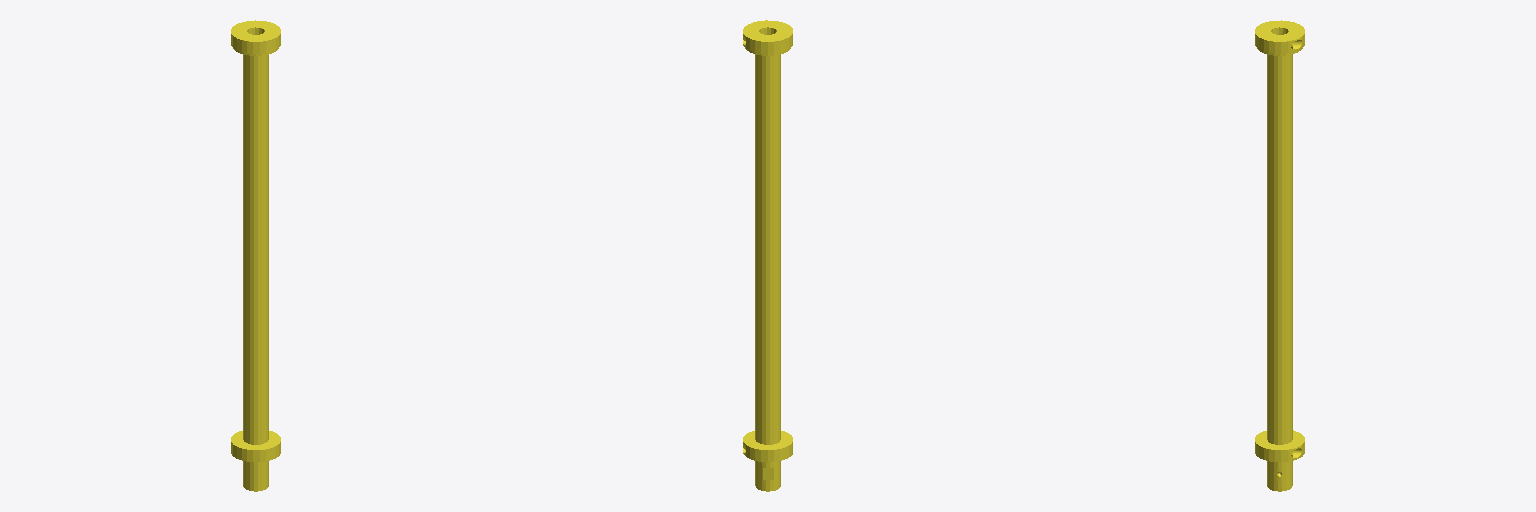
The robot description file, URDF, robot "IRB920T_6kg_450_180_STD":
<?xml version="1.0" ?>
<robot name="IRB920T_6kg_450_180_STD">

<link name="base_link">
  <inertial>
    <origin xyz="-0.025007128631782737 4.8316998944871165e-06 0.0942820943103721" rpy="0 0 0"/>
    <mass value="41.12593814105158"/>
    <inertia ixx="0.182723" iyy="0.263419" izz="0.209732" ixy="5.3e-05" iyz="2e-06" ixz="0.005906"/>
  </inertial>
  <visual>
    <origin xyz="0 0 0" rpy="0 0 0"/>
    <geometry>
      <mesh filename="meshes/base_link.stl" scale="0.001 0.001 0.001"/>
    </geometry>
  </visual>
  <collision>
    <origin xyz="0 0 0" rpy="0 0 0"/>
    <geometry>
      <mesh filename="meshes/base_link.stl" scale="0.001 0.001 0.001"/>
    </geometry>
  </collision>
</link>

<link name="IRB920T_6kg_450_180_STD_OmniCore_rev00_LINK1_CAD_1">
  <inertial>
    <origin xyz="0.08115257258737836 4.78068739670782e-05 0.0457660214106653" rpy="0 0 0"/>
    <mass value="25.677563367507343"/>
    <inertia ixx="0.05341" iyy="0.223323" izz="0.252796" ixy="1.4e-05" iyz="4.5e-05" ixz="-0.011896"/>
  </inertial>
  <visual>
    <origin xyz="0.00025 -2e-06 -0.1914" rpy="0 0 0"/>
    <geometry>
      <mesh filename="meshes/IRB920T_6kg_450_180_STD_OmniCore_rev00_LINK1_CAD_1.stl" scale="0.001 0.001 0.001"/>
    </geometry>
  </visual>
  <collision>
    <origin xyz="0.00025 -2e-06 -0.1914" rpy="0 0 0"/>
    <geometry>
      <mesh filename="meshes/IRB920T_6kg_450_180_STD_OmniCore_rev00_LINK1_CAD_1.stl" scale="0.001 0.001 0.001"/>
    </geometry>
  </collision>
</link>

<link name="IRB920T_6kg_450_180_STD_OmniCore_rev00_LINK2_CAD_1">
  <inertial>
    <origin xyz="0.097869480002094 2.829652201639198e-06 0.08518139176786854" rpy="0 0 0"/>
    <mass value="75.7740500377449"/>
    <inertia ixx="0.309324" iyy="1.206997" izz="1.132455" ixy="1.3e-05" iyz="1.8e-05" ixz="0.072377"/>
  </inertial>
  <visual>
    <origin xyz="-0.191498 -0.0 -0.2785" rpy="0 0 0"/>
    <geometry>
      <mesh filename="meshes/IRB920T_6kg_450_180_STD_OmniCore_rev00_LINK2_CAD_1.stl" scale="0.001 0.001 0.001"/>
    </geometry>
  </visual>
  <collision>
    <origin xyz="-0.191498 -0.0 -0.2785" rpy="0 0 0"/>
    <geometry>
      <mesh filename="meshes/IRB920T_6kg_450_180_STD_OmniCore_rev00_LINK2_CAD_1.stl" scale="0.001 0.001 0.001"/>
    </geometry>
  </collision>
</link>

<link name="IRB920T_6kg_450_180_STD_OmniCore_rev00_LINK3_CAD_1">
  <inertial>
    <origin xyz="-7.554934788289724e-05 -7.453270582378933e-05 -0.1760046819511616" rpy="0 0 0"/>
    <mass value="0.6594614836495646"/>
    <inertia ixx="0.011651" iyy="0.011651" izz="7.7e-05" ixy="1e-06" iyz="-0.0" ixz="1e-06"/>
  </inertial>
  <visual>
    <origin xyz="-0.45 0.0 -0.5835" rpy="0 0 0"/>
    <geometry>
      <mesh filename="meshes/IRB920T_6kg_450_180_STD_OmniCore_rev00_LINK3_CAD_1.stl" scale="0.001 0.001 0.001"/>
    </geometry>
  </visual>
  <collision>
    <origin xyz="-0.45 0.0 -0.5835" rpy="0 0 0"/>
    <geometry>
      <mesh filename="meshes/IRB920T_6kg_450_180_STD_OmniCore_rev00_LINK3_CAD_1.stl" scale="0.001 0.001 0.001"/>
    </geometry>
  </collision>
</link>

<joint name="Revolute_1" type="continuous">
  <origin xyz="-0.00025 2e-06 0.1914" rpy="0 0 0"/>
  <parent link="base_link"/>
  <child link="IRB920T_6kg_450_180_STD_OmniCore_rev00_LINK1_CAD_1"/>
  <axis xyz="0.0 0.0 1.0"/>
</joint>

<joint name="Revolute_2" type="continuous">
  <origin xyz="0.191748 -2e-06 0.0871" rpy="0 0 0"/>
  <parent link="IRB920T_6kg_450_180_STD_OmniCore_rev00_LINK1_CAD_1"/>
  <child link="IRB920T_6kg_450_180_STD_OmniCore_rev00_LINK2_CAD_1"/>
  <axis xyz="0.0 0.0 1.0"/>
</joint>

<joint name="Slider_3" type="prismatic">
  <origin xyz="0.258502 -0.0 0.305" rpy="0 0 0"/>
  <parent link="IRB920T_6kg_450_180_STD_OmniCore_rev00_LINK2_CAD_1"/>
  <child link="IRB920T_6kg_450_180_STD_OmniCore_rev00_LINK3_CAD_1"/>
  <axis xyz="0.0 0.0 1.0"/>
  <limit upper="0.0" lower="-0.1" effort="100" velocity="100"/>
</joint>

</robot>

--- What the picture shows (computed from the rendered views, not written in the file) ---
The picture shows the robot from 3 angles, left to right: view 1: azimuth 30°, elevation 25°; view 2: azimuth 150°, elevation 25°; view 3: azimuth 270°, elevation 25°; orthographic projection.
Model IRB920T_6kg_450_180_STD with 4 links and 3 joints (2 continuous, 1 prismatic), rooted at base_link, posed every joint at zero.
Links seen in each view (by area): view 1: IRB920T_6kg_450_180_STD_OmniCore_rev00_LINK3_CAD_1; view 2: IRB920T_6kg_450_180_STD_OmniCore_rev00_LINK3_CAD_1; view 3: IRB920T_6kg_450_180_STD_OmniCore_rev00_LINK3_CAD_1.
Link boxes in pixels (x1,y1,x2,y2): IRB920T_6kg_450_180_STD_OmniCore_rev00_LINK3_CAD_1: (231, 20, 280, 491); IRB920T_6kg_450_180_STD_OmniCore_rev00_LINK3_CAD_1: (743, 20, 792, 491); IRB920T_6kg_450_180_STD_OmniCore_rev00_LINK3_CAD_1: (1255, 20, 1304, 491).
Size in the robot's own frame: 0.0399 by 0.0398 by 0.395 metres.
1 mesh visuals loaded from 4 distinct referenced files (1 binary STL); not drawn: 3 (reference not matched to a file when rendering).